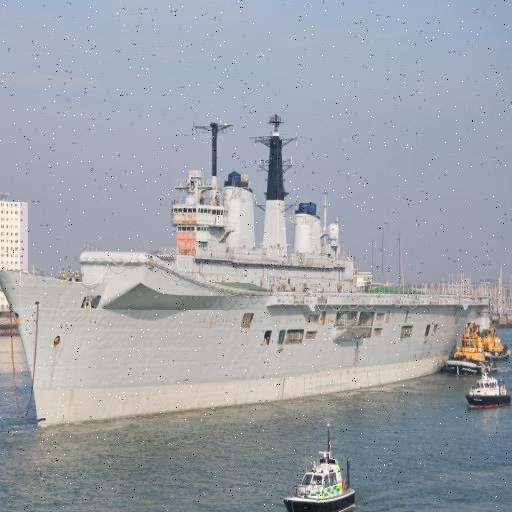Portanaves: (1, 111, 497, 436)
